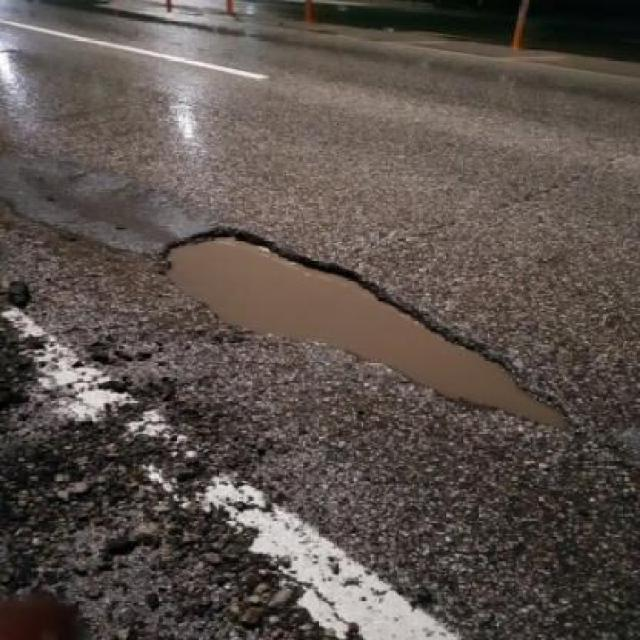pothole: (147, 216, 592, 447)
